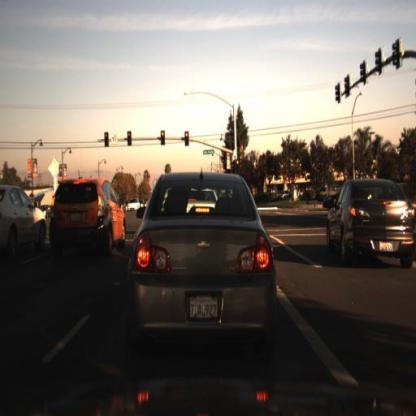car: (132, 172, 276, 345), (325, 177, 416, 264), (48, 178, 124, 258), (1, 184, 48, 255), (126, 198, 143, 216)
trafficLight-Red: (184, 130, 193, 149), (236, 154, 244, 169), (161, 132, 167, 150), (104, 130, 112, 143), (126, 130, 134, 143)
trafficLight-RedLeft: (126, 126, 134, 148), (105, 131, 112, 150)
